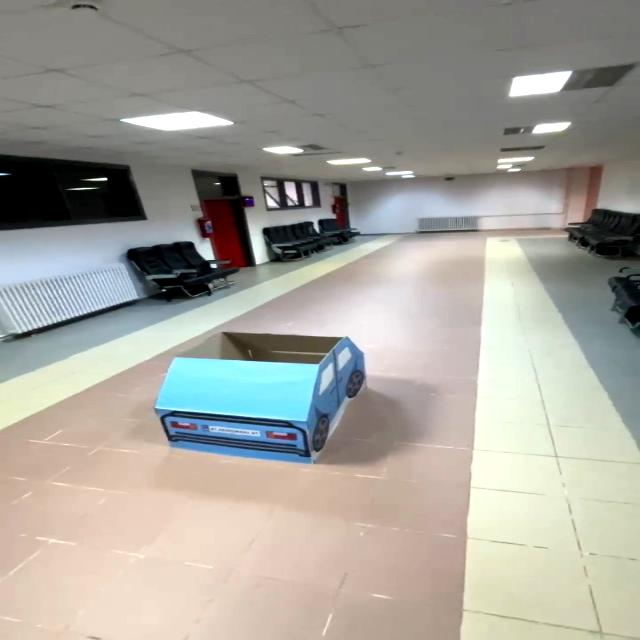blue_car: (130, 320, 397, 487)
